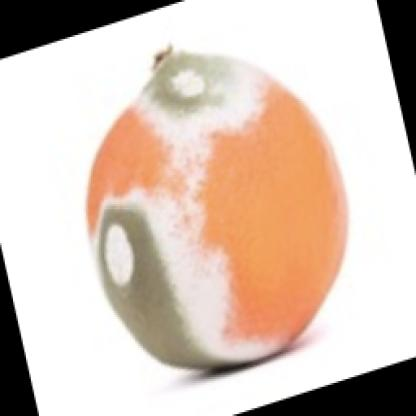rotten: (86, 52, 347, 368)
